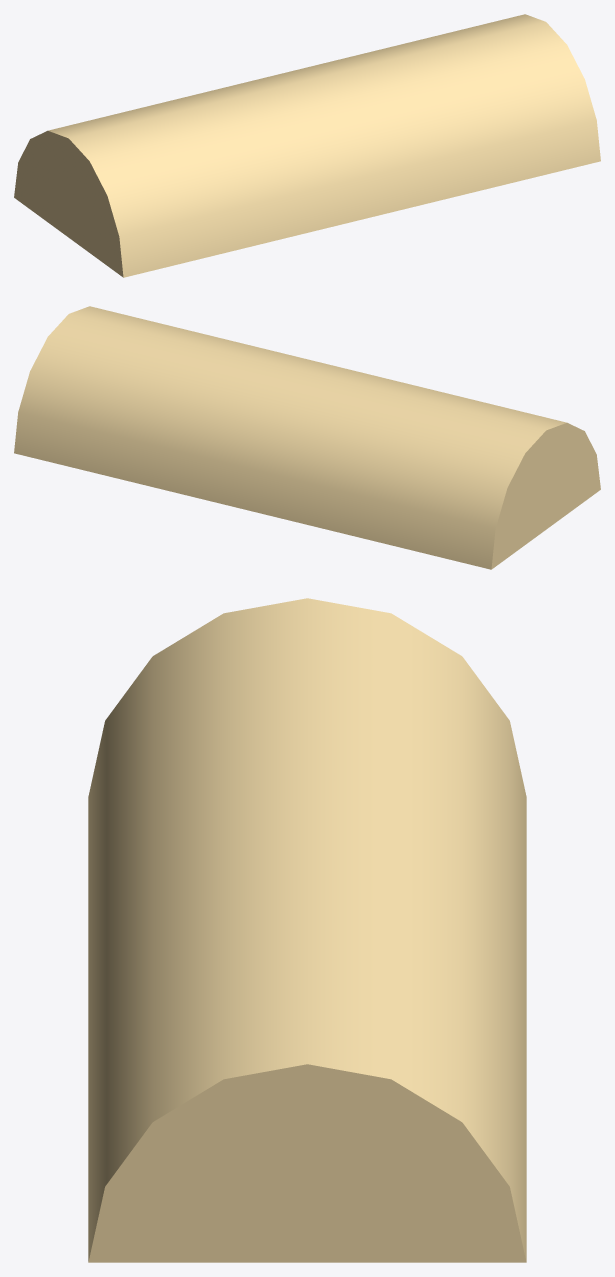
File: Salle_1_Roof.fbx
3 views of the same model, one above another, from view 1: azimuth 30°, elevation 25°; view 2: azimuth 150°, elevation 25°; view 3: azimuth 270°, elevation 25° (orthographic). The views are drawn at different scales.
Visible parts, largest first — view 1: Salle_1_Roof; view 2: Salle_1_Roof; view 3: Salle_1_Roof.
Boxes of the visible parts, left/top/right/bottom form: Salle_1_Roof: left=14, top=14, right=600, bottom=277; Salle_1_Roof: left=14, top=306, right=600, bottom=569; Salle_1_Roof: left=88, top=598, right=526, bottom=1262.
Size of the model in its own units: 5378 by 1068 by 2137.
Materials: 1 (1 with a texture image).
